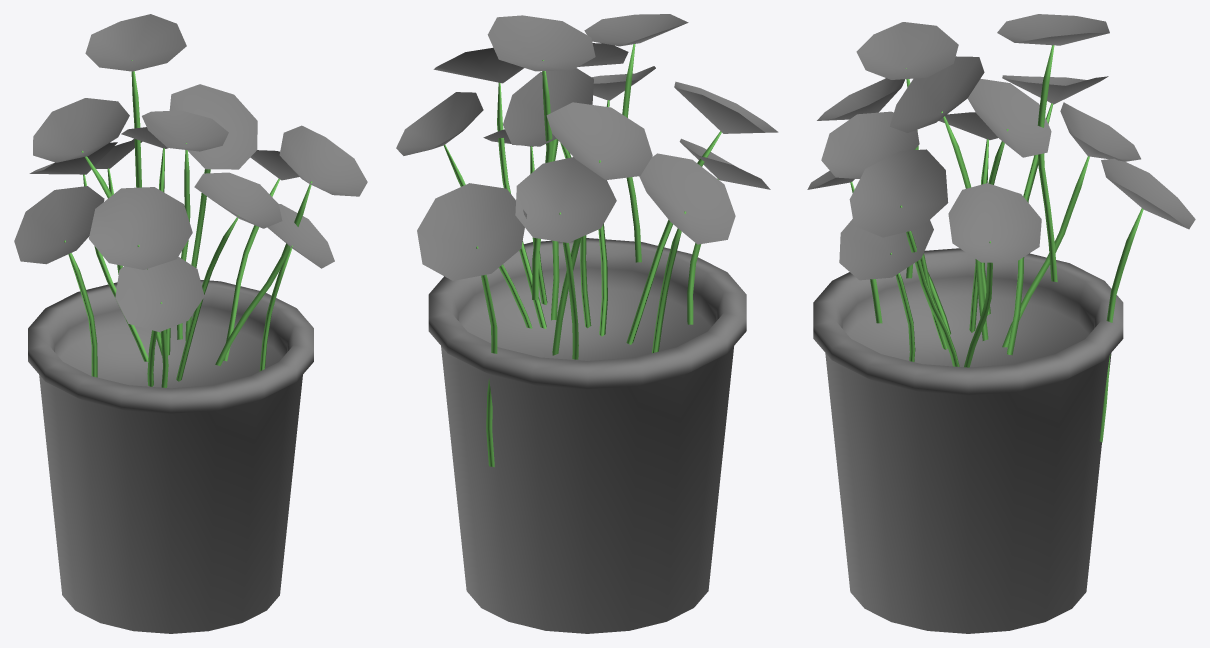
File: SM_flowerpot_04.fbx
3 views of the same model, side by side, from view 1: azimuth 30°, elevation 25°; view 2: azimuth 150°, elevation 25°; view 3: azimuth 270°, elevation 25° (orthographic). The views are drawn at different scales.
Visible parts, largest first — view 1: Cylinder023; view 2: Cylinder023; view 3: Cylinder023.
Boxes of the visible parts, x1,y1,x2,y2 form: Cylinder023: (14,14,367,633); Cylinder023: (396,14,778,633); Cylinder023: (807,14,1195,633).
Bounding box in the file's own units: 15.82 × 26.51 × 16.39.
